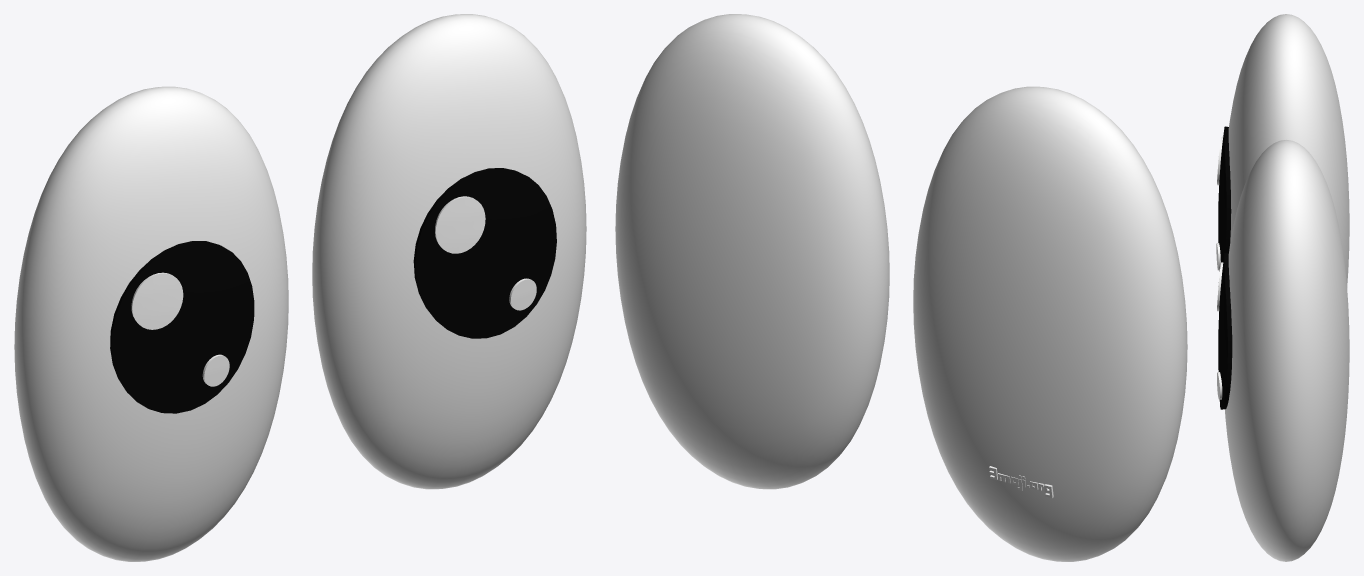
File: eyes.glb
3 views of the same model, side by side, from view 1: azimuth 30°, elevation 25°; view 2: azimuth 150°, elevation 25°; view 3: azimuth 270°, elevation 25° (orthographic). The views are drawn at different scales.
Parts seen in each view (by area): view 1: Cube.107; view 2: Cube.107; view 3: Cube.107.
Part boxes in pixels (x1,y1,x2,y2): Cube.107: (14,14,586,561); Cube.107: (615,14,1187,561); Cube.107: (1216,14,1349,561).
Size of the model in its own units: 2.41 by 1.92 by 0.5746.
Materials: 1 (1 with a texture image).
